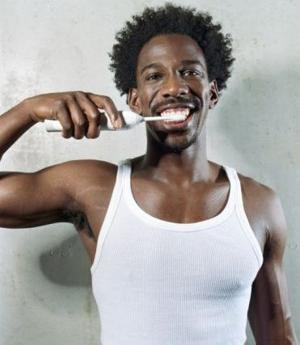person: (2, 8, 300, 345)
